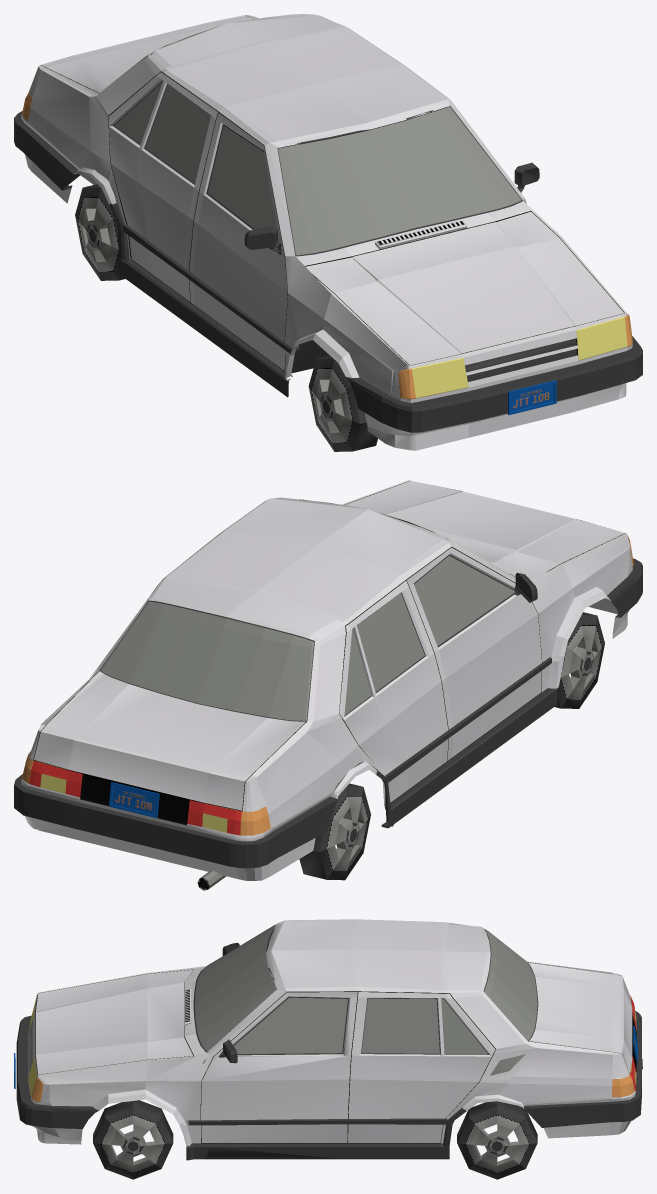
Rendered from Car_1.fbx.
The picture shows the model from 3 angles, top to bottom: view 1: azimuth 30°, elevation 25°; view 2: azimuth 150°, elevation 25°; view 3: azimuth 270°, elevation 25°; orthographic projection. The views are drawn at different scales.
Visible parts, largest first — view 1: Car_1; view 2: Car_1; view 3: Car_1.
Boxes of the visible parts, box(x1,y1,x2,y2) form: Car_1: box(14, 14, 642, 451); Car_1: box(14, 480, 642, 890); Car_1: box(14, 919, 642, 1179).
Size of the model in its own units: 180 by 140 by 432.
Materials: 1 (1 with a texture image).
